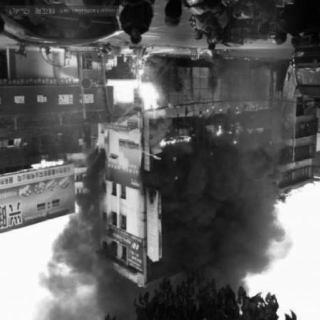Fire: (106, 75, 163, 117), (202, 123, 260, 139), (156, 136, 194, 154), (201, 49, 213, 59)
Smoke: (48, 218, 100, 318), (94, 272, 134, 315)
other: (287, 48, 320, 116)
